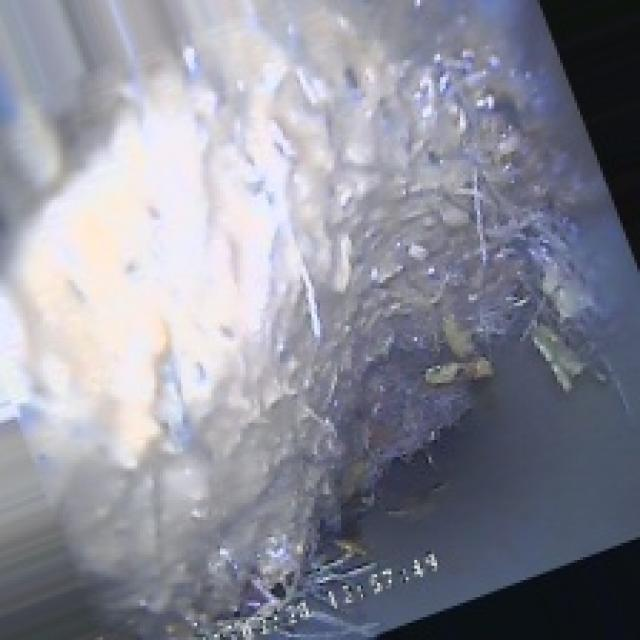sluge accumulation: (60, 97, 611, 529)
